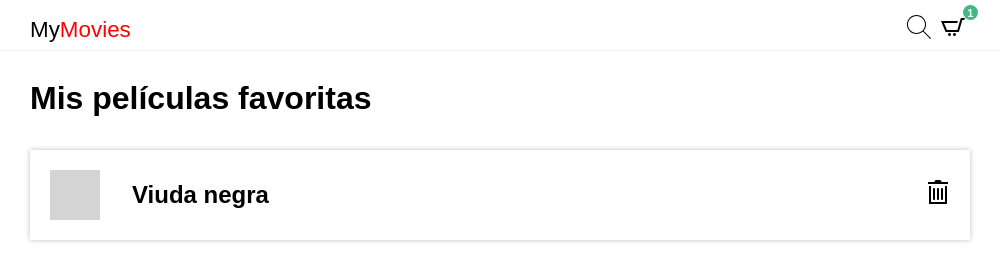
Scenario: Page Cart Test › Should have no movies if removed
Expected: the list item with class "cart-list__item" is shown, 30,150 -> 970,240
Click the button with class "cart-list__item__remove-button" at (938, 195), box 926,180 -> 950,210
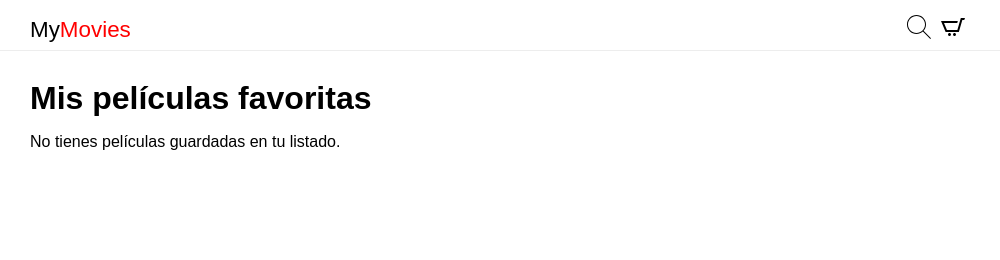
Result: the list item with class "cart-list__item" is gone
